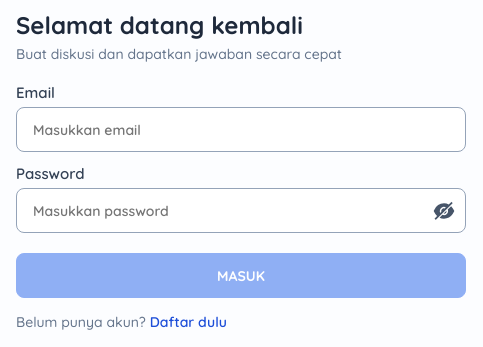
Test: LoginPage component › should enabled login button when email and password is not empty
This screenshot has width=483, height=347.
Type "toni@mail.com" into the field with placeholder "Masukkan email" at (241, 130), box [16,107,466,152]
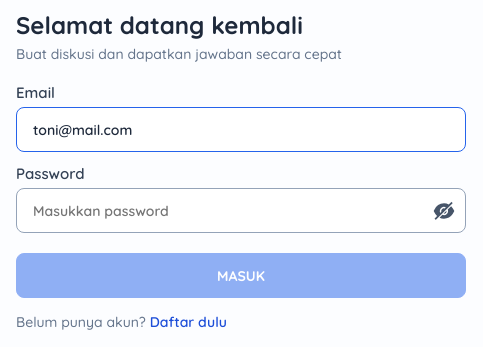
Type "toni123" into the password field with placeholder "Masukkan password" at (241, 210), box [16,188,466,233]
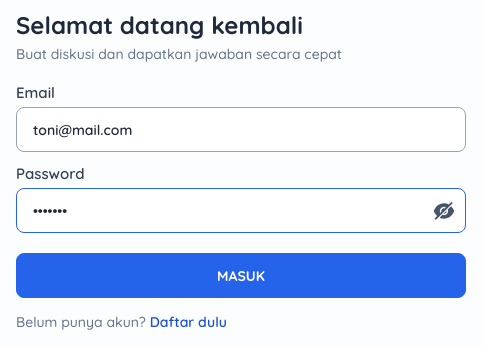
Check: the button "MASUK" is enabled, box [16,253,466,298]
